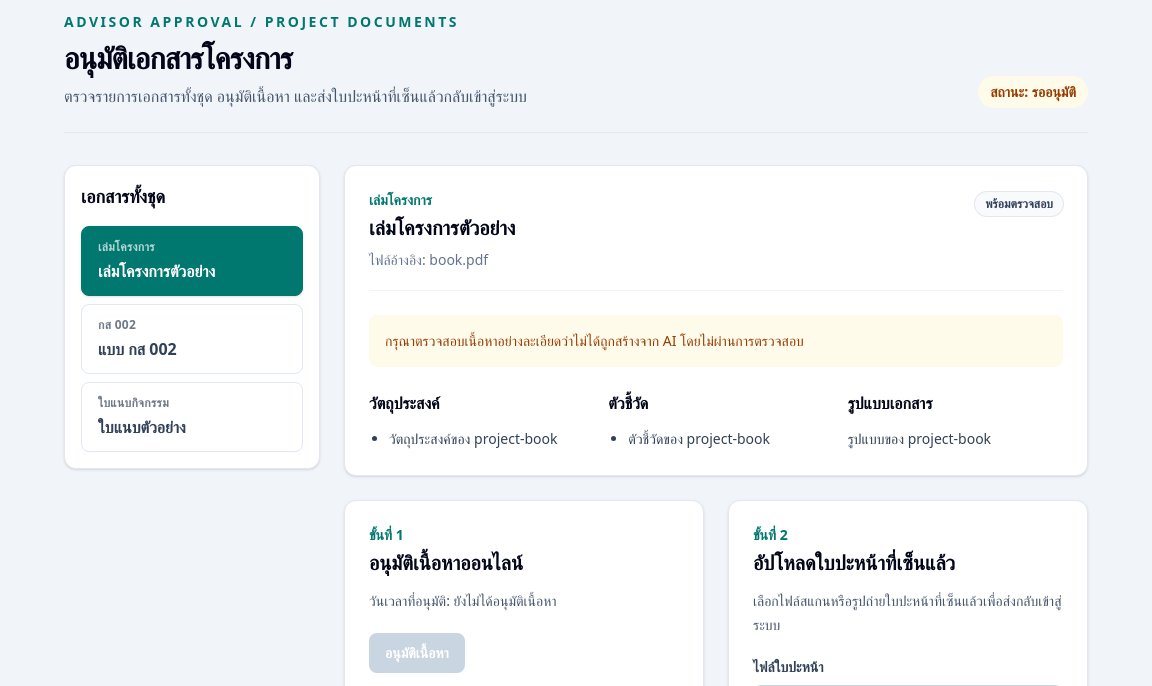
test_AC_APR_03_select_project_document เปิดเอกสารที่เลือกโดยมีรายการทั้งชุด
# When อาจารย์เปิดหน้าอนุมัติและเลือกเอกสารรายการหนึ่ง
Click the button "กส 002 แบบ กส 002": (192, 339) [81,304,303,374]
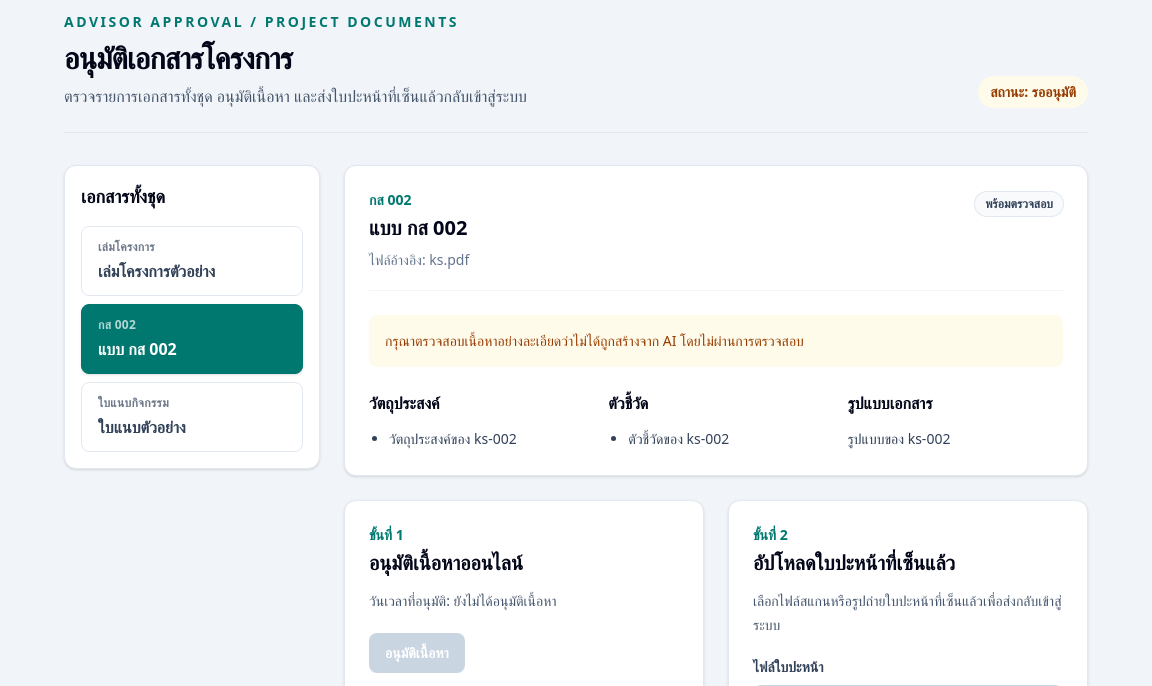
expect the list item "วัตถุประสงค์ของ ks-002" is shown: met, box [389,429,517,448]
expect the list item "วัตถุประสงค์ของ project-book" is gone: met
